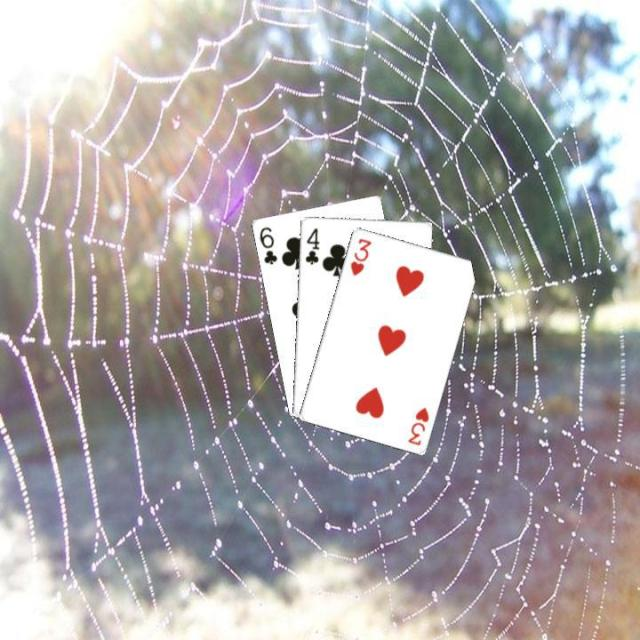3H: (346, 234, 373, 277), (404, 403, 430, 447)
4C: (301, 224, 321, 266)
6C: (255, 222, 279, 266)
